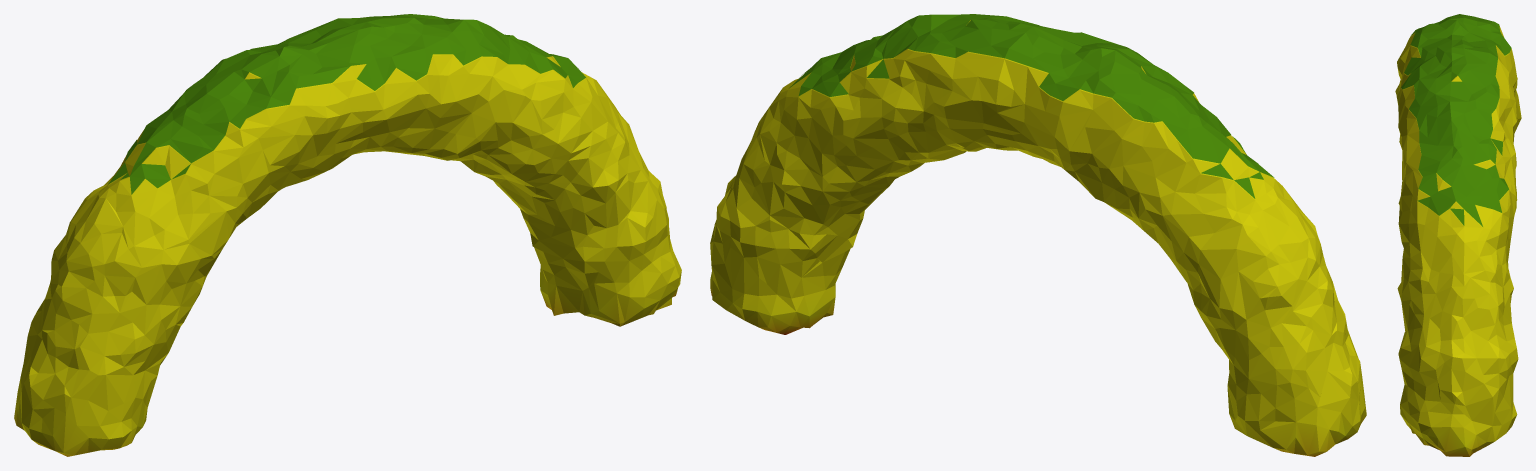
The model's file is canyon_arch_0.glb.
3 views of the same model, side by side, from view 1: azimuth 30°, elevation 25°; view 2: azimuth 150°, elevation 25°; view 3: azimuth 270°, elevation 25° (orthographic). The views are drawn at different scales.
Parts seen in each view (by area): view 1: canyon_arch_0.002; view 2: canyon_arch_0.002; view 3: canyon_arch_0.002.
Part boxes in pixels (x1,y1,x2,y2): canyon_arch_0.002: (14,14,681,456); canyon_arch_0.002: (710,14,1366,456); canyon_arch_0.002: (1395,14,1521,456).
Size of what is drawn, in the model's own units: 61.05 by 31.43 by 12.43.
